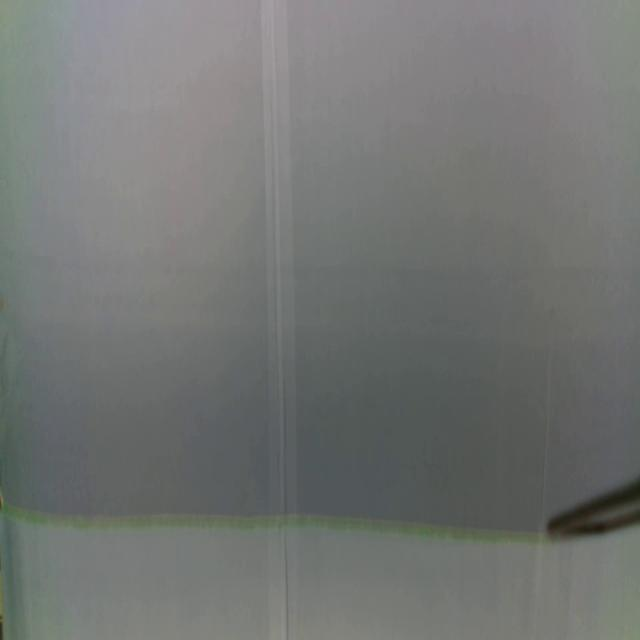color bleeding: (0, 241, 598, 496)
crease: (259, 0, 300, 640)
